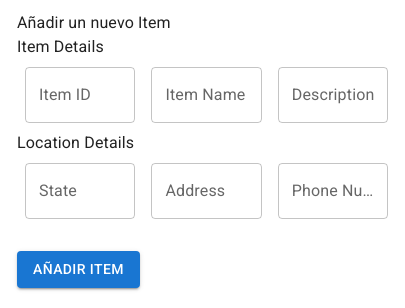
Scenario: AddItem Component › muestra boton añadir otro item
Type "123" into the field labelled "Item ID" at (80, 95), box left=25, top=67, right=135, bottom=123
Type "Test Item" into the field labelled "Item Name" at (207, 95), box left=151, top=67, right=262, bottom=123
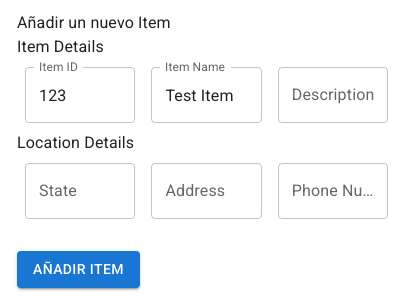
Type "Description" into the field labelled "Description" at (333, 95), box left=278, top=67, right=388, bottom=123
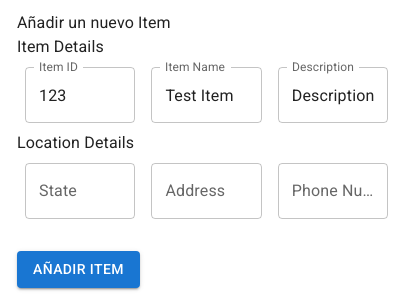
Type "CDMX" into the field labelled "State" at (80, 191), box left=25, top=163, right=135, bottom=219
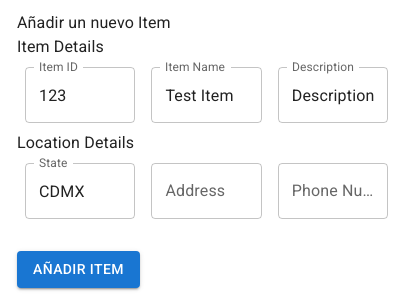
Type "Polanco" into the field labelled "Address" at (207, 191), box left=151, top=163, right=262, bottom=219
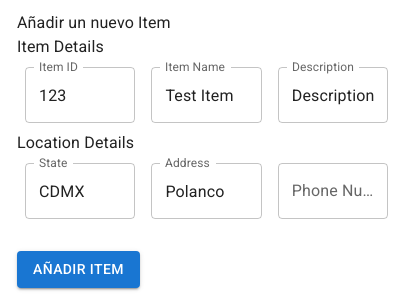
Type "12345" into the field labelled "Phone Number" at (333, 191), box left=278, top=163, right=388, bottom=219
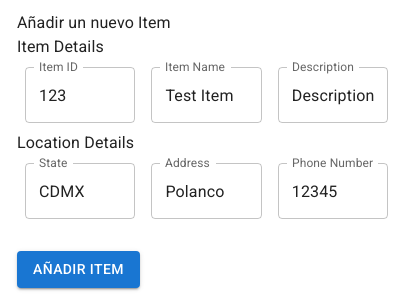
Click the button "Añadir Item" at (78, 269), box left=17, top=251, right=140, bottom=288
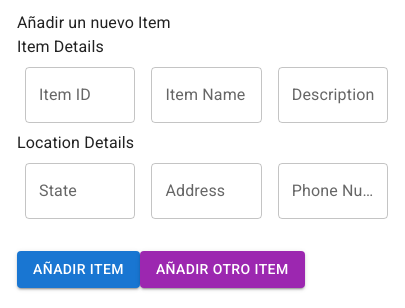
Now the button "Añadir otro Item" is shown, box left=140, top=251, right=305, bottom=288
